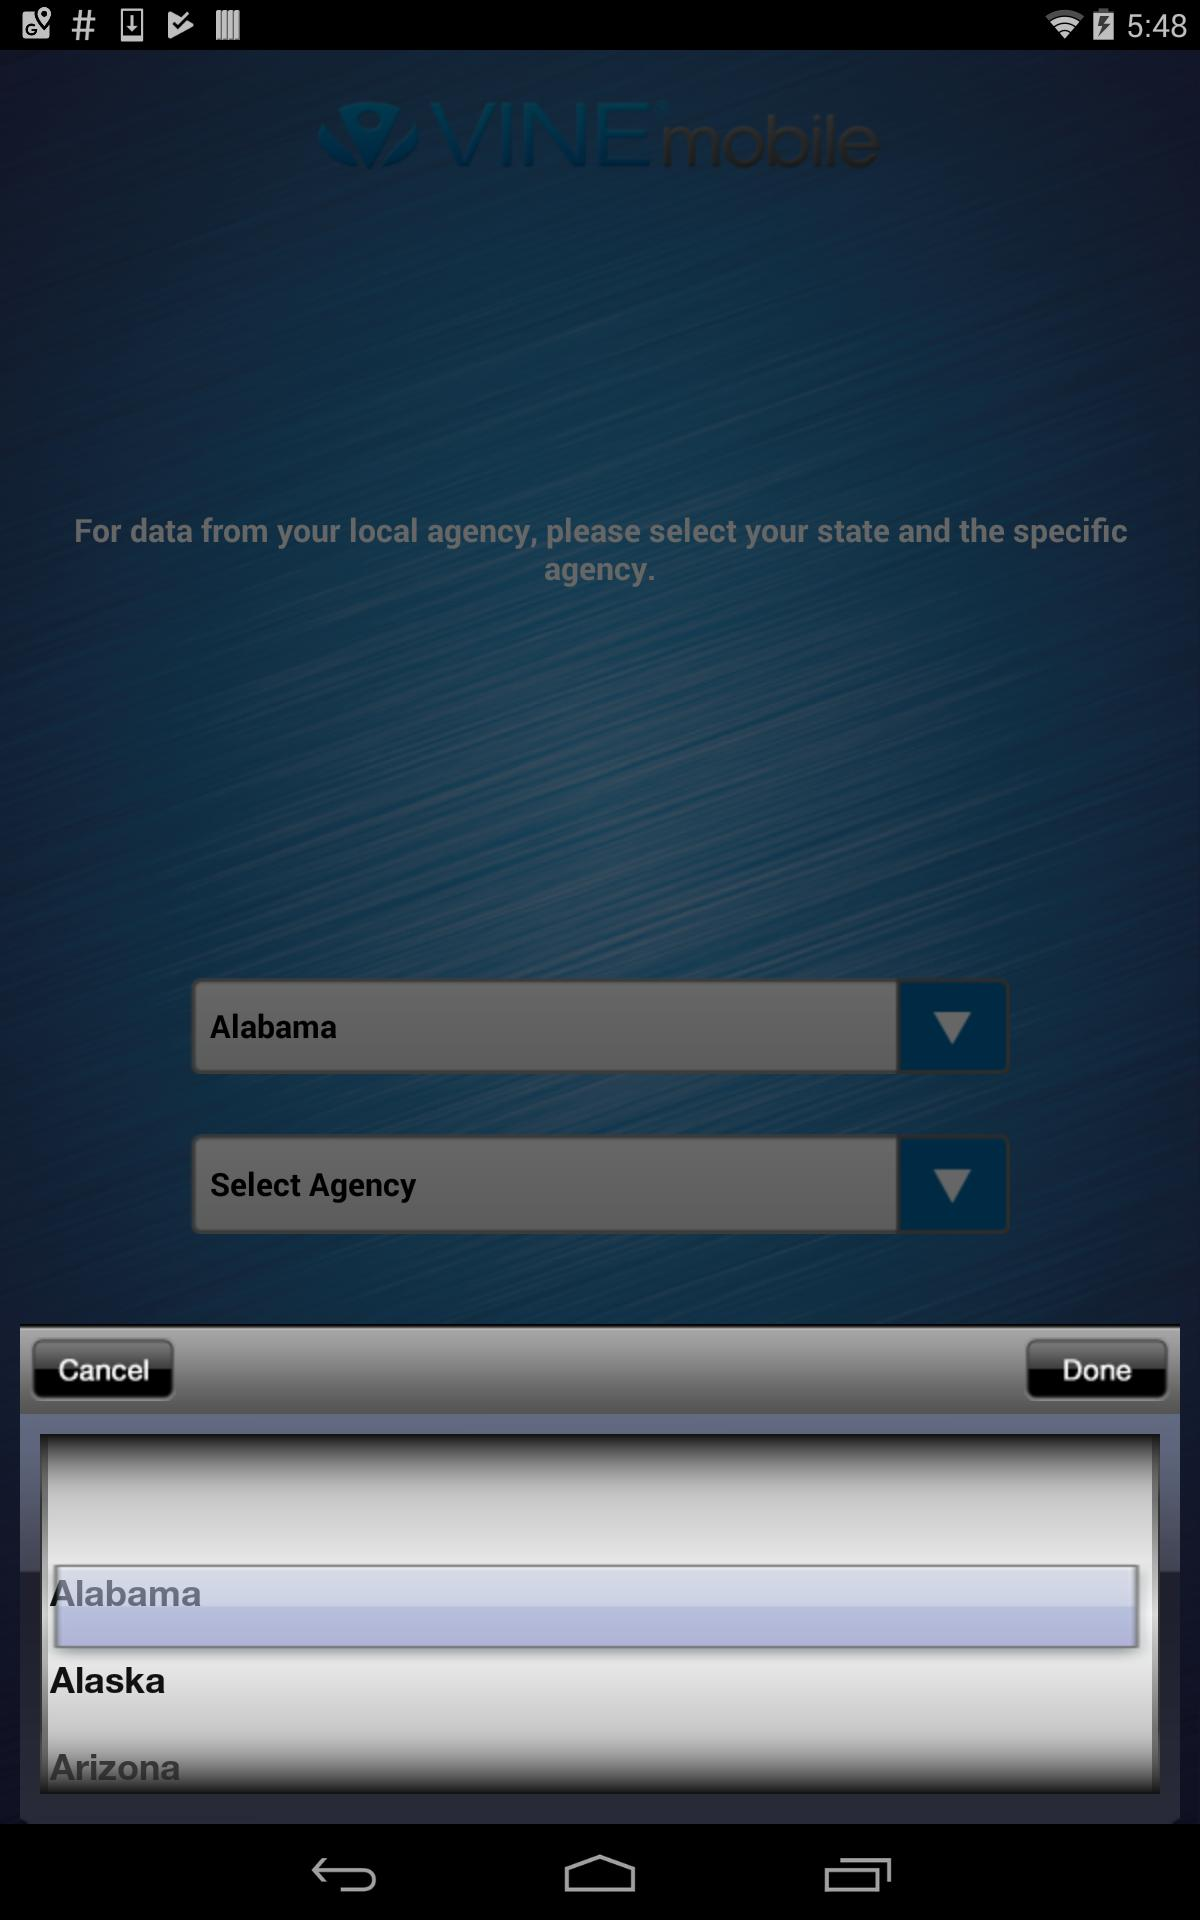android.view.View: (40, 1433, 1160, 1794), (19, 1814, 1181, 1825)
android.widget.FrameLayout: (19, 1324, 1181, 1825)
android.widget.ImageView: (30, 1337, 176, 1402), (1024, 1337, 1170, 1402)
android.widget.LinearLayout: (19, 1324, 1181, 1825)
android.widget.RelativeLayout: (19, 1324, 1181, 1825), (19, 1324, 1181, 1414)
